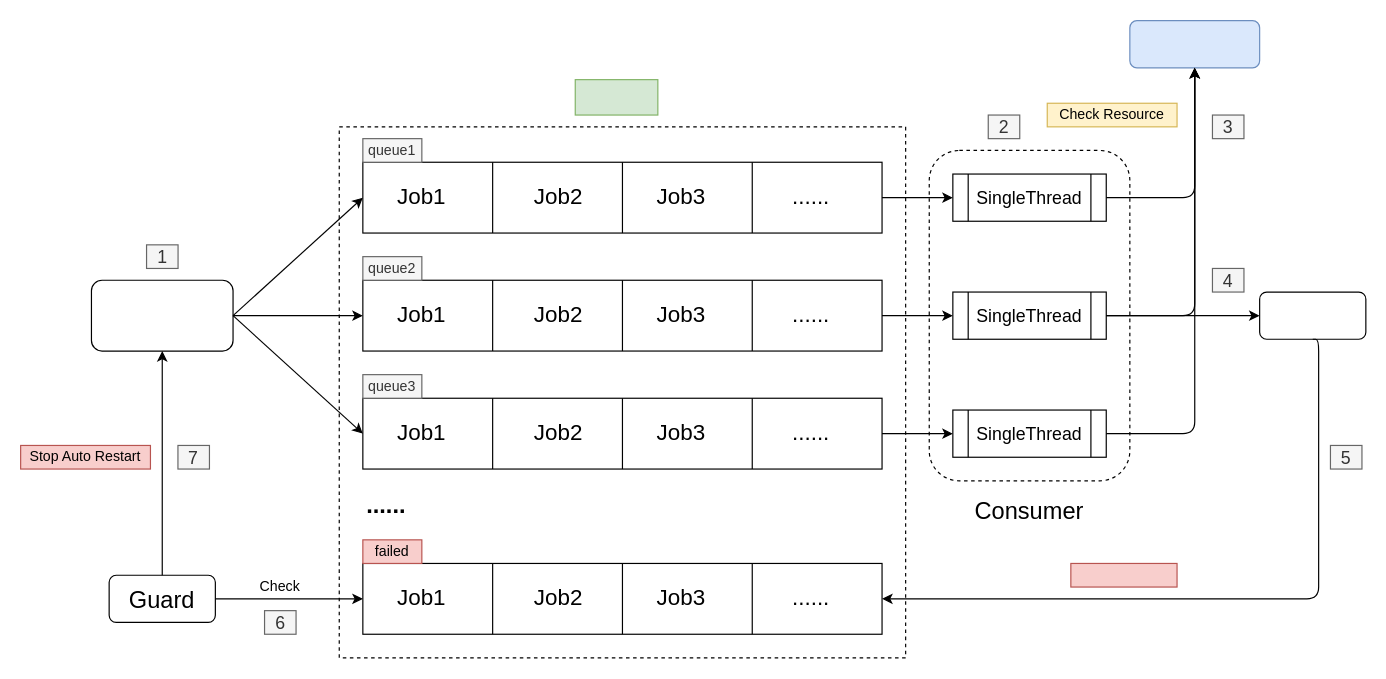
This 1386x679 diagram has some shape labels left out. The shapes that lost their labels are listed below. From the top down, each one's centre as x and y in pixels, then its label:
At point (1194, 43): "Yarn".
At point (616, 96): "Redis".
At point (161, 315): "Producer".
At point (1312, 315): "Saber Restart".
At point (1123, 574): "Restart Failed".
